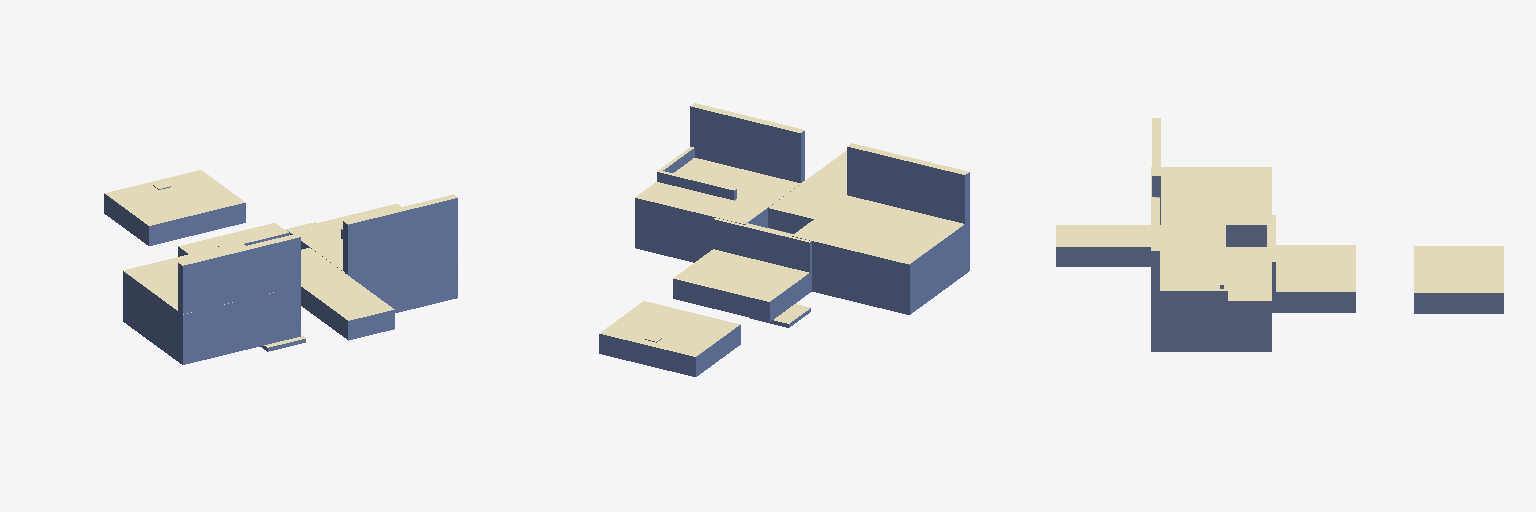
The picture shows the model from 3 angles: view 1: azimuth 30°, elevation 25°; view 2: azimuth 150°, elevation 25°; view 3: azimuth 270°, elevation 25°; orthographic projection.
Parts seen in each view (by area): view 1: 立方体; view 2: 立方体; view 3: 立方体.
Part boxes in pixels (x1,y1,x2,y2): 立方体: (104,170,457,364); 立方体: (599,103,969,376); 立方体: (1056,118,1503,351).
Size of the model in its own units: 142 by 71.11 by 200.
Materials: 1 (1 with a texture image).